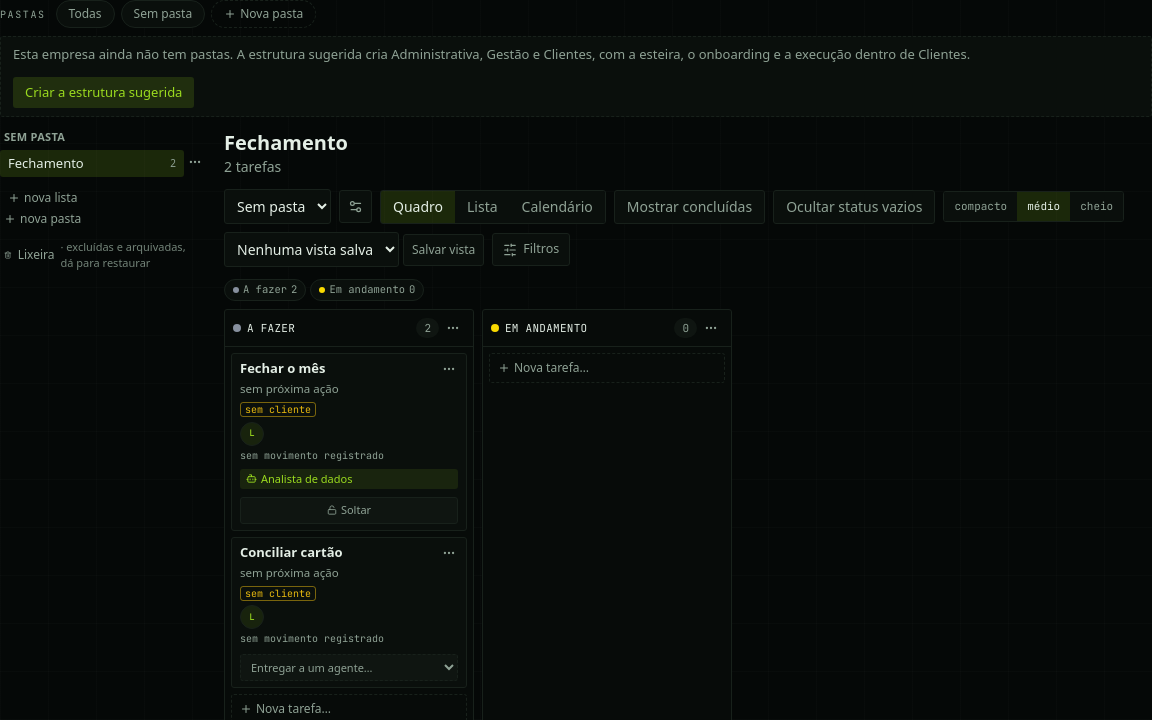
A4: o filtro por agente é outro eixo › filtrar por "sem agente" esconde as travadas, e por agente esconde as livres
Check: the text "Fechar o mês" is shown, box [240,360,326,378]
# Rodada da interface (U2): o filtro de agente mora no painel de "Filtros".
Click the button with test id "trabalho-filtros-botao" at (531, 250), box [492,233,570,266]
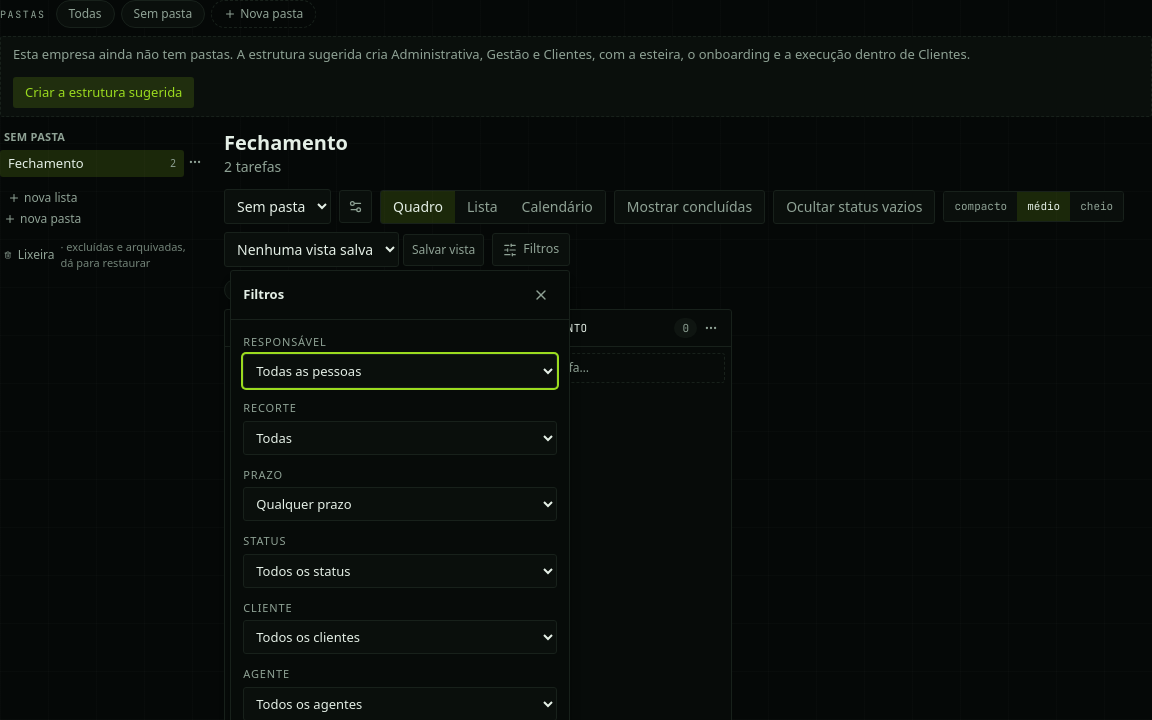
Select "Sem agente (livres)" in the dropdown labelled "Agente" at (400, 704), box [243,687,557,719]
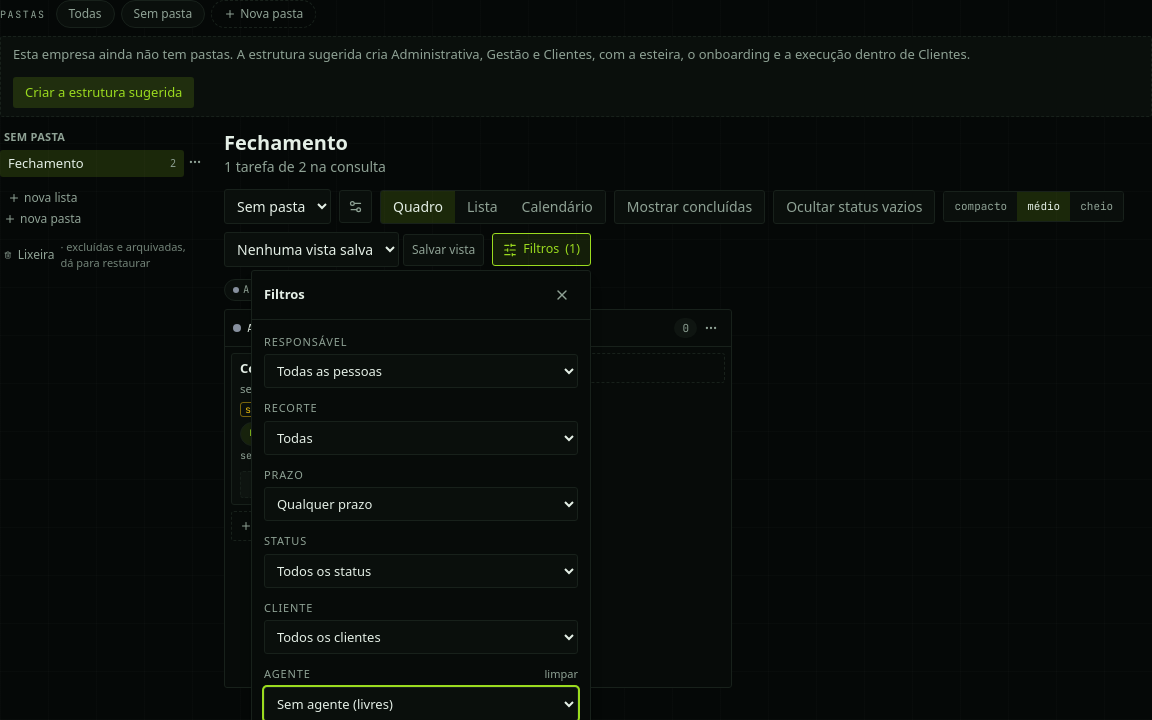
Check: the button "Conciliar cartão" is shown, box [240,360,343,378]
Check: the button "Fechar o mês" is gone
Select "Analista de dados" in the dropdown showing "Sem agente (livres)" at (421, 704), box [264,687,578,719]
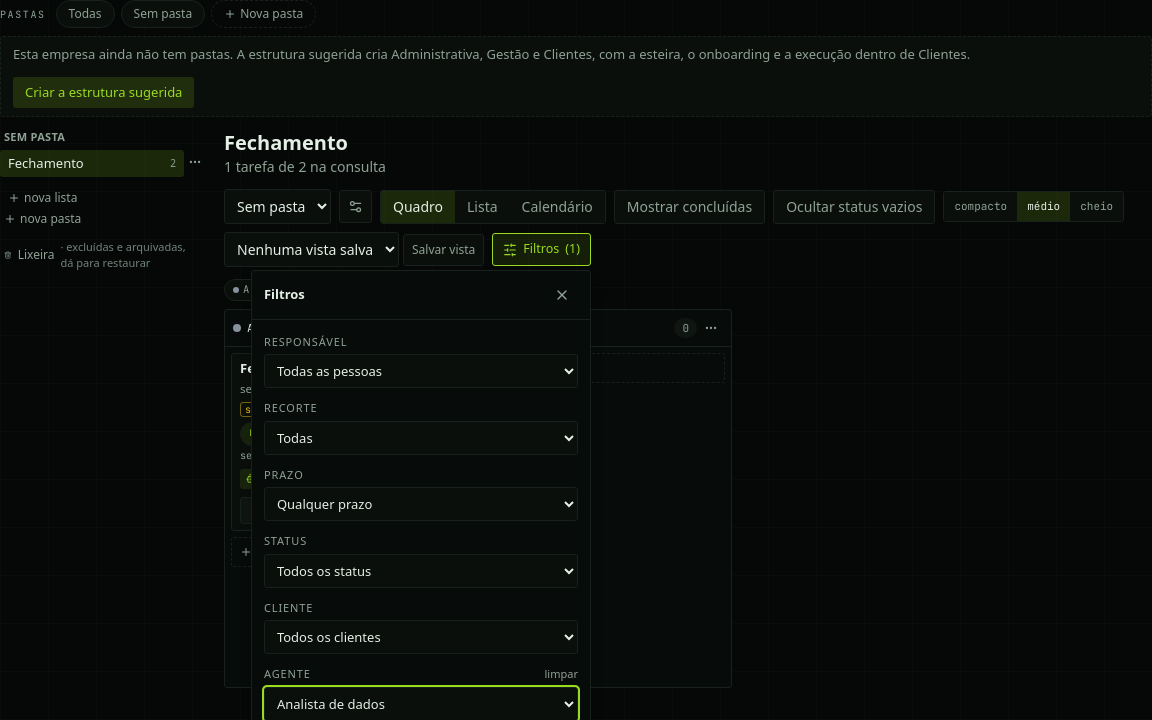
Check: the button "Fechar o mês" is shown, box [240,360,326,378]
Check: the button "Conciliar cartão" is gone
